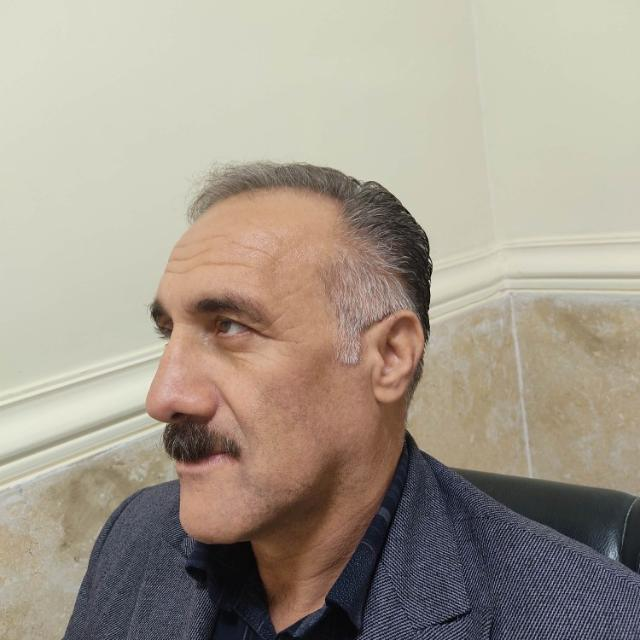crows_feet: (254, 322, 278, 348)
forehead: (203, 250, 247, 276), (172, 240, 198, 278), (237, 237, 273, 261)
gummy_smile: (215, 388, 245, 430)
